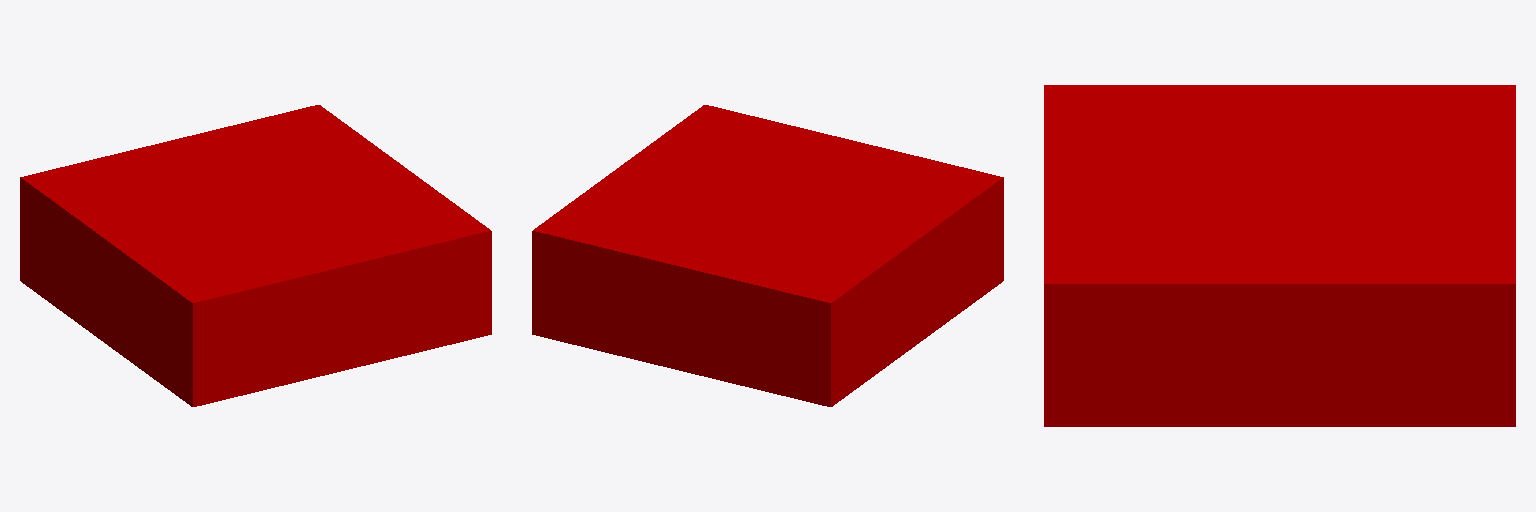
The robot description file, URDF, robot "quadcopter":
<?xml version="1.0"?>
<robot name="quadcopter">
  <!-- Base link (main body) -->
  <link name="base_link">
    <visual>
      <geometry>
        <box size="0.3 0.3 0.1"/>
      </geometry>
      <material name="red">
        <color rgba="0.8 0 0 1"/>
      </material>
    </visual>
    <collision>
      <geometry>
        <box size="0.3 0.3 0.1"/>
      </geometry>
    </collision>
    <inertial>
      <mass value="1.5"/>
      <inertia ixx="0.01" ixy="0" ixz="0" iyy="0.01" iyz="0" izz="0.02"/>
    </inertial>
  </link>

  <!-- Add gazebo physics plugin -->
  <gazebo>
    <plugin filename="gz-sim-multicopter-control-system" name="gz::sim::systems::MulticopterVelocityControl">
      <robotNamespace>drone</robotNamespace>
      <commandSubTopic>cmd_vel</commandSubTopic>
      <enableSubTopic>enable</enableSubTopic>
      <velocityGain>2.0 2.0 1.0</velocityGain>
      <attitudeGain>2.0 2.0 0.5</attitudeGain>
      <angularRateGain>0.5 0.5 0.2</angularRateGain>
      <maximumLinearVelocity>5 5 3</maximumLinearVelocity>
      <maximumAngularVelocity>3 3 2</maximumAngularVelocity>
    </plugin>
    
    <!-- Add pose publisher plugin -->
    <plugin filename="gz-sim-pose-publisher-system" name="gz::sim::systems::PosePublisher">
      <publish_nested_model_pose>true</publish_nested_model_pose>
      <update_frequency>100</update_frequency>
    </plugin>
  </gazebo>
</robot>

--- Render facts (derived) ---
The picture shows the robot from 3 angles, left to right: view 1: azimuth 30°, elevation 25°; view 2: azimuth 150°, elevation 25°; view 3: azimuth 270°, elevation 25°; orthographic projection.
Robot: quadcopter — 1 links, 0 joints (none); root link base_link; default pose: all joints at 0.
Links seen in each view (by area): view 1: base_link; view 2: base_link; view 3: base_link.
Link boxes in pixels (left/top/right/bottom): base_link: left=20, top=105, right=491, bottom=406; base_link: left=532, top=105, right=1003, bottom=406; base_link: left=1044, top=85, right=1515, bottom=426.
Bounding box of the posed robot: 0.3 × 0.3 × 0.1 m (x, y, z).
Geometry: primitives only (box / cylinder / sphere), no mesh files.